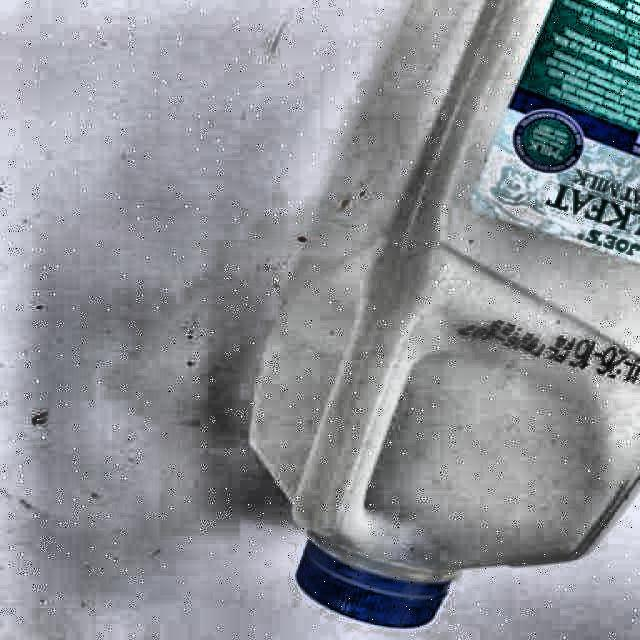plastic: (250, 0, 640, 626)
